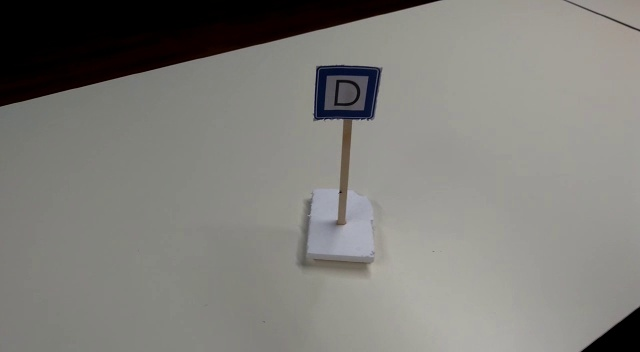durak: (314, 65, 379, 120)
